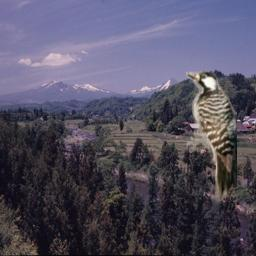Woodpecker: (186, 71, 237, 201)
